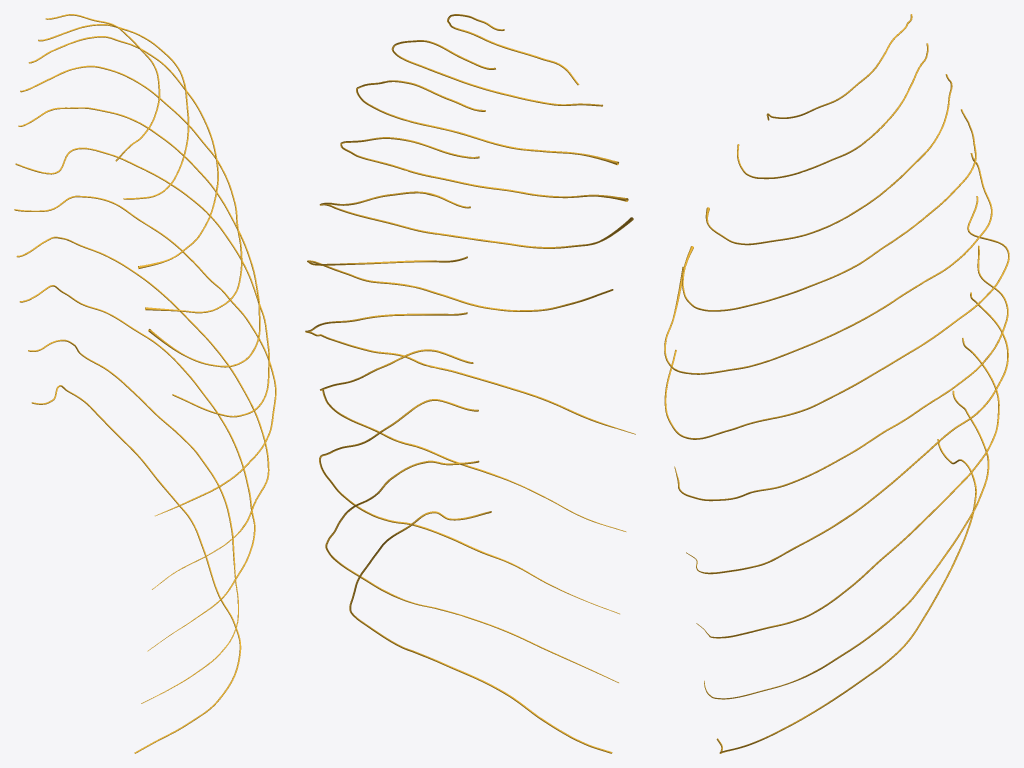
The model's file is nervoso-intercostal-nerves-l.glb.
The picture shows the model from 3 angles, left to right: view 1: azimuth 30°, elevation 25°; view 2: azimuth 150°, elevation 25°; view 3: azimuth 270°, elevation 25°; orthographic projection. The views are drawn at different scales.
Visible parts, largest first — view 1: Intercostal nerves.l; view 2: Intercostal nerves.l; view 3: Intercostal nerves.l.
Boxes of the visible parts, box(x1,y1,x2,y2) form: Intercostal nerves.l: box(14, 14, 276, 753); Intercostal nerves.l: box(305, 14, 635, 753); Intercostal nerves.l: box(664, 14, 1009, 753).
Size of the model in its own units: 0.1252 by 0.4538 by 0.1955.
